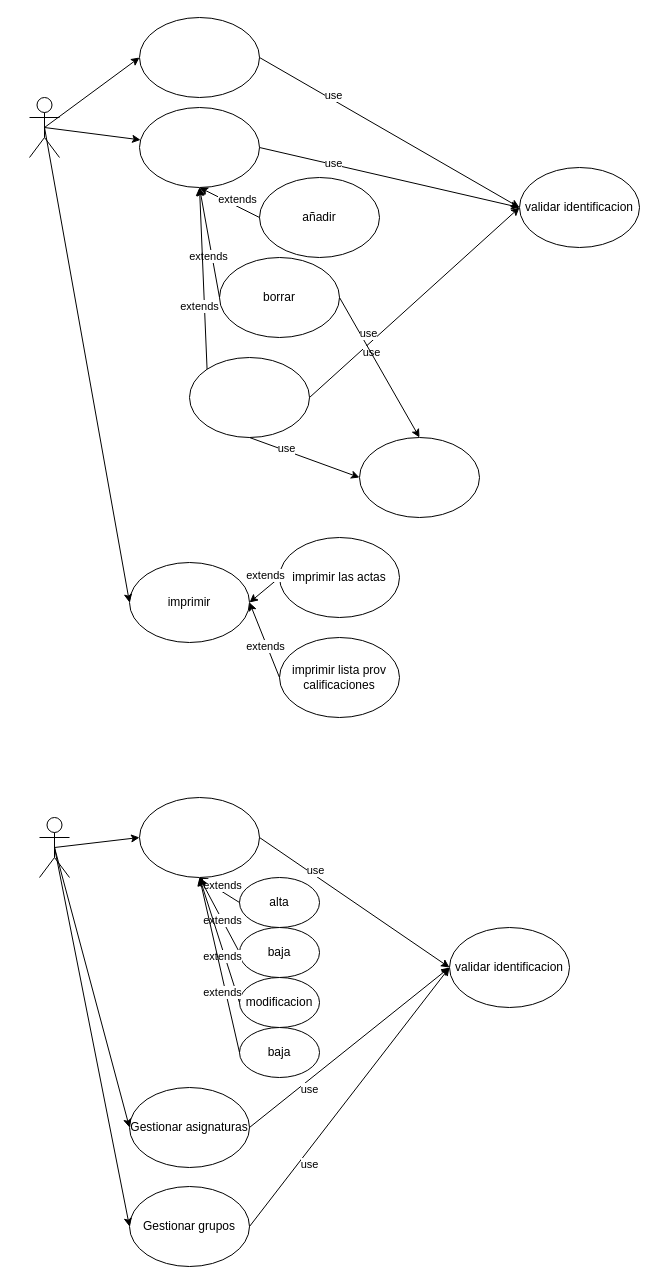
This 657x1284 diagram has some shape labels left out. The centre of each missing label's shape, as x and y in pixels:
"Administrador" belongs at point 54,847.
"consultar" belongs at point 249,397.
"gestionar alumno" belongs at point 199,147.
"Gestionar datos alumno" belongs at point 199,837.
"Poner notas" belongs at point 199,57.
"Profesor" belongs at point 44,127.
"seleccionar alumno" belongs at point 419,477.
